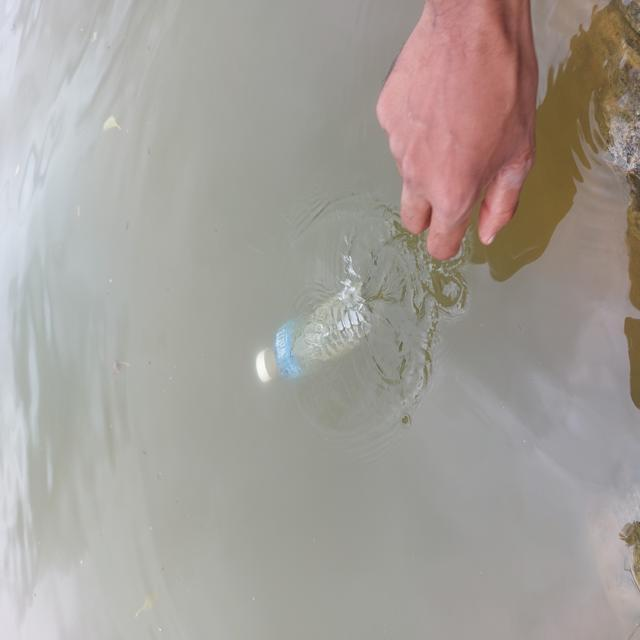waterbottle: (248, 295, 366, 400)
